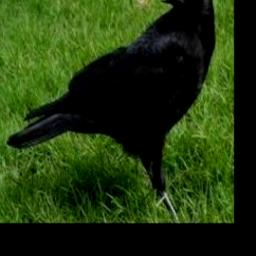Crow: (7, 0, 216, 194)
